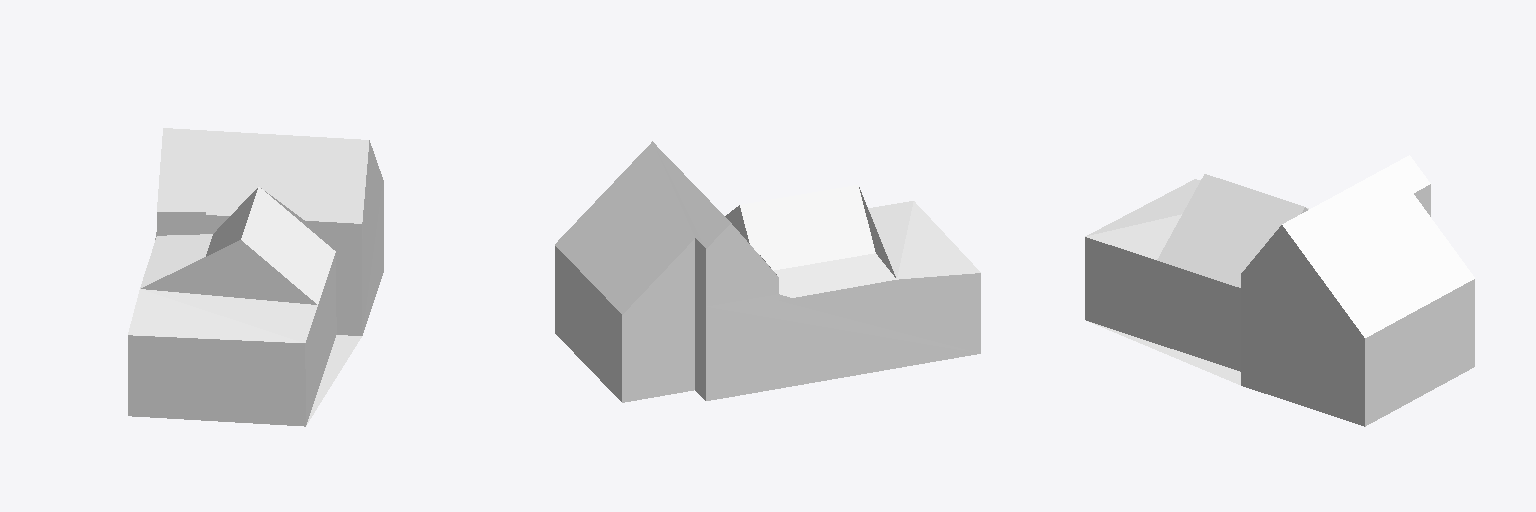
Rendered from house_Shape 351.obj.
The picture shows the model from 3 angles: view 1: azimuth 30°, elevation 25°; view 2: azimuth 150°, elevation 25°; view 3: azimuth 270°, elevation 25°; orthographic projection.
Parts seen in each view (by area): view 1: CityEngineMaterial_18, CityEngineMaterial_20, CityEngineMaterial_158, CityEngineMaterial_228; view 2: CityEngineMaterial_20, CityEngineMaterial_18, CityEngineMaterial_228; view 3: CityEngineMaterial_18, CityEngineMaterial_20, CityEngineMaterial_158, CityEngineMaterial_228.
Part boxes in pixels (bbox=[...]): CityEngineMaterial_18: bbox=[128, 128, 368, 342]; CityEngineMaterial_20: bbox=[128, 180, 383, 426]; CityEngineMaterial_158: bbox=[141, 240, 336, 424]; CityEngineMaterial_228: bbox=[261, 140, 382, 240]; CityEngineMaterial_20: bbox=[555, 205, 980, 402]; CityEngineMaterial_18: bbox=[555, 141, 980, 314]; CityEngineMaterial_228: bbox=[631, 207, 778, 306]; CityEngineMaterial_18: bbox=[1085, 155, 1474, 337]; CityEngineMaterial_20: bbox=[1088, 207, 1474, 426]; CityEngineMaterial_158: bbox=[1085, 237, 1240, 371]; CityEngineMaterial_228: bbox=[1241, 184, 1430, 329].
Size of the model in its own units: 16.93 by 8.27 by 16.77.